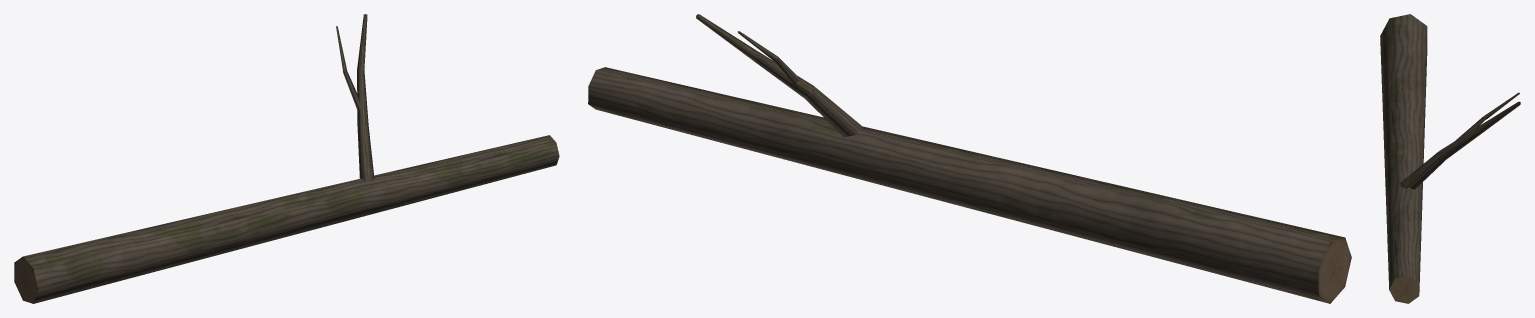
Rendered from S7U_FallenLog_B.fbx.
3 views of the same model, side by side, from view 1: azimuth 30°, elevation 25°; view 2: azimuth 150°, elevation 25°; view 3: azimuth 270°, elevation 25° (orthographic). The views are drawn at different scales.
Parts seen in each view (by area): view 1: S7U_FallenLog_B; view 2: S7U_FallenLog_B; view 3: S7U_FallenLog_B.
Part boxes in pixels (x1,y1,x2,y2): S7U_FallenLog_B: (14, 14, 559, 303); S7U_FallenLog_B: (588, 14, 1351, 303); S7U_FallenLog_B: (1380, 14, 1520, 303).
Bounding box in the file's own units: 4 × 1.09 × 0.93.
